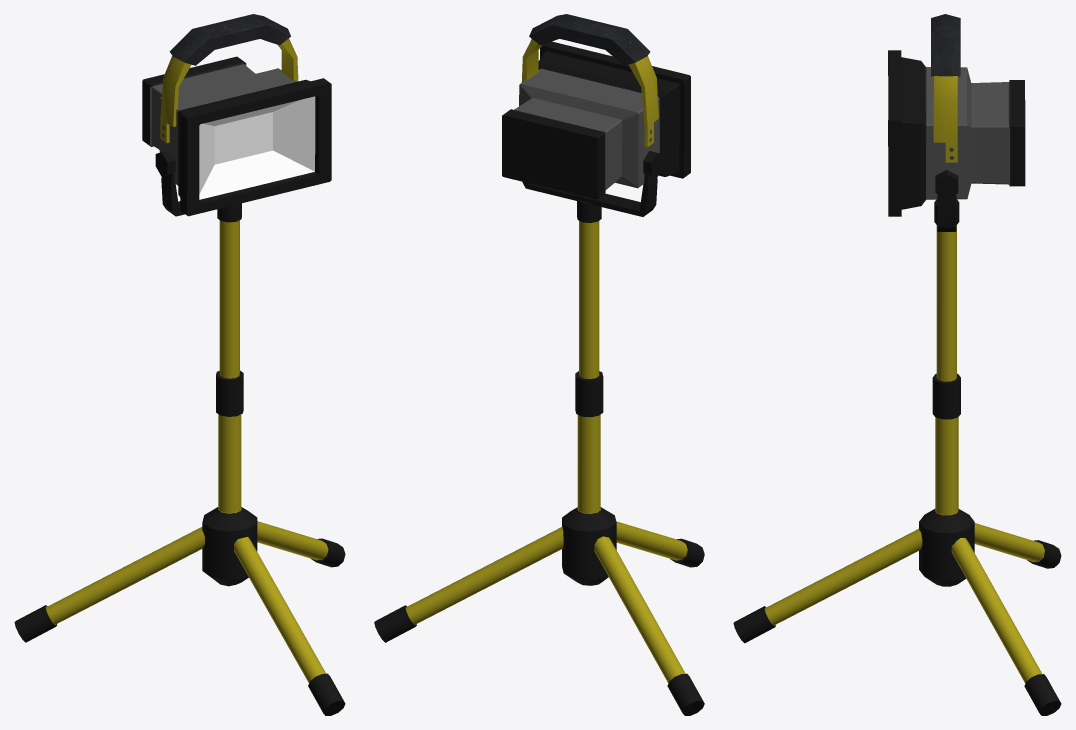
The model's file is Floodlight_Standing_geo.fbx.
3 views of the same model, side by side, from view 1: azimuth 30°, elevation 25°; view 2: azimuth 150°, elevation 25°; view 3: azimuth 270°, elevation 25° (orthographic).
Visible parts, largest first — view 1: Floodlight_Standing; view 2: Floodlight_Standing; view 3: Floodlight_Standing.
Boxes of the visible parts, box(x1,y1,x2,y2) form: Floodlight_Standing: box(14, 14, 345, 715); Floodlight_Standing: box(374, 14, 704, 715); Floodlight_Standing: box(733, 14, 1061, 715).
Bounding box in the file's own units: 87.1 × 157 × 76.25.
Materials: 1 (1 with a texture image).
